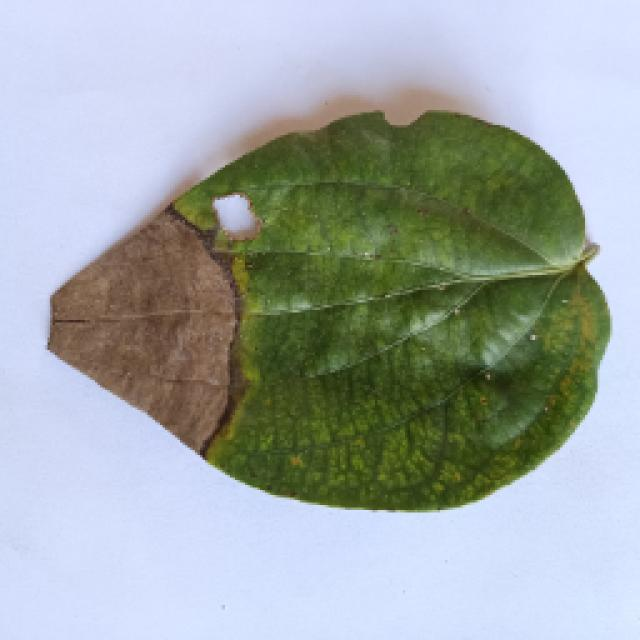footrot: (45, 102, 603, 510)
